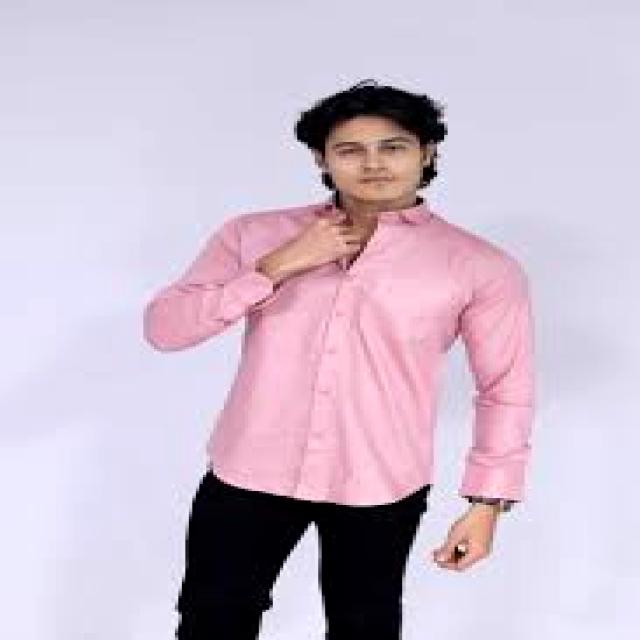face: (304, 86, 450, 200)
lower-wear: (168, 476, 428, 638)
top-wear: (145, 206, 539, 504)
